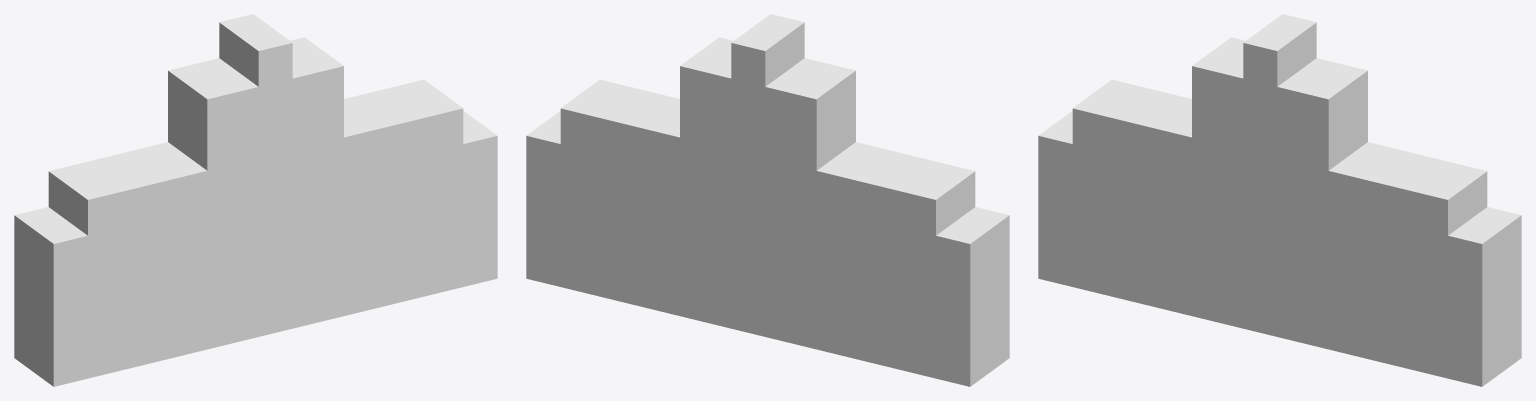
File: player.gltf
The picture shows the model from 3 angles, left to right: view 1: azimuth 30°, elevation 25°; view 2: azimuth 150°, elevation 25°; view 3: azimuth 330°, elevation 25°; orthographic projection.
Parts seen in each view (by area): view 1: Layer.1; view 2: Layer.1; view 3: Layer.1.
Boxes of the visible parts, x1,y1,x2,y2 form: Layer.1: [14, 14, 497, 386]; Layer.1: [526, 14, 1009, 386]; Layer.1: [1038, 14, 1521, 386].
Bounding box in the file's own units: 26 × 16 × 4.
1 material, 1 textured.
